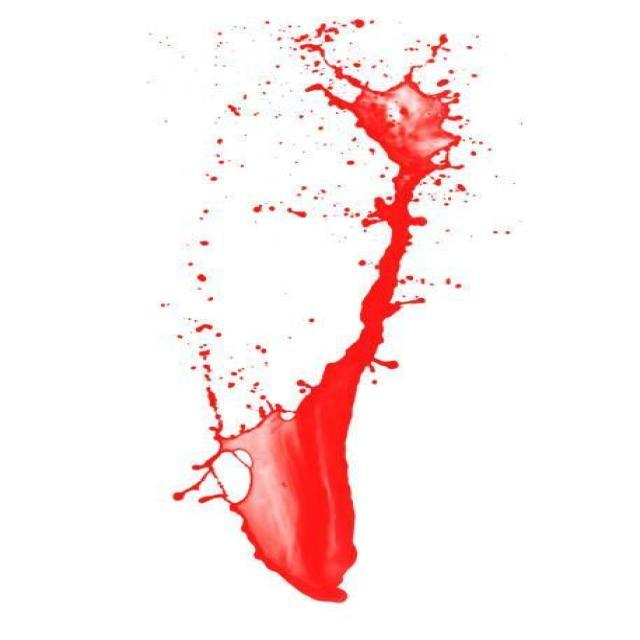flood: (190, 312, 370, 623)
